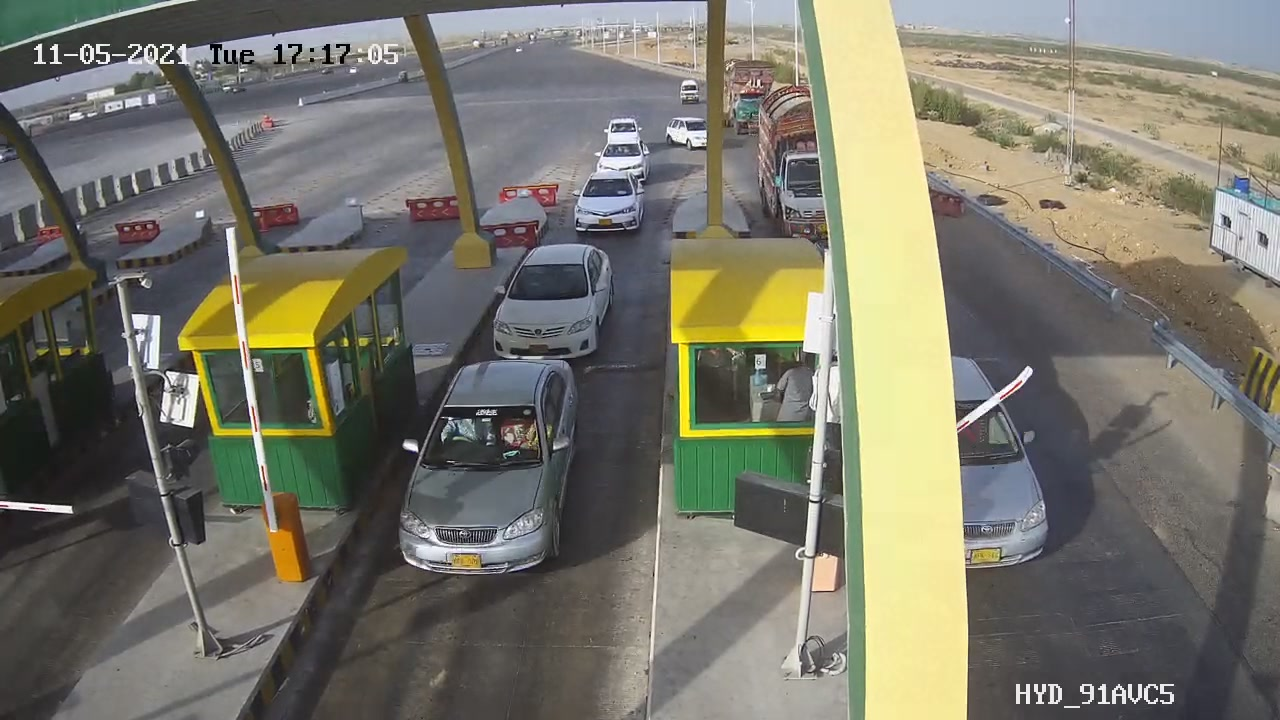F1: (376, 344, 600, 596), (477, 230, 631, 377), (557, 164, 660, 244)
